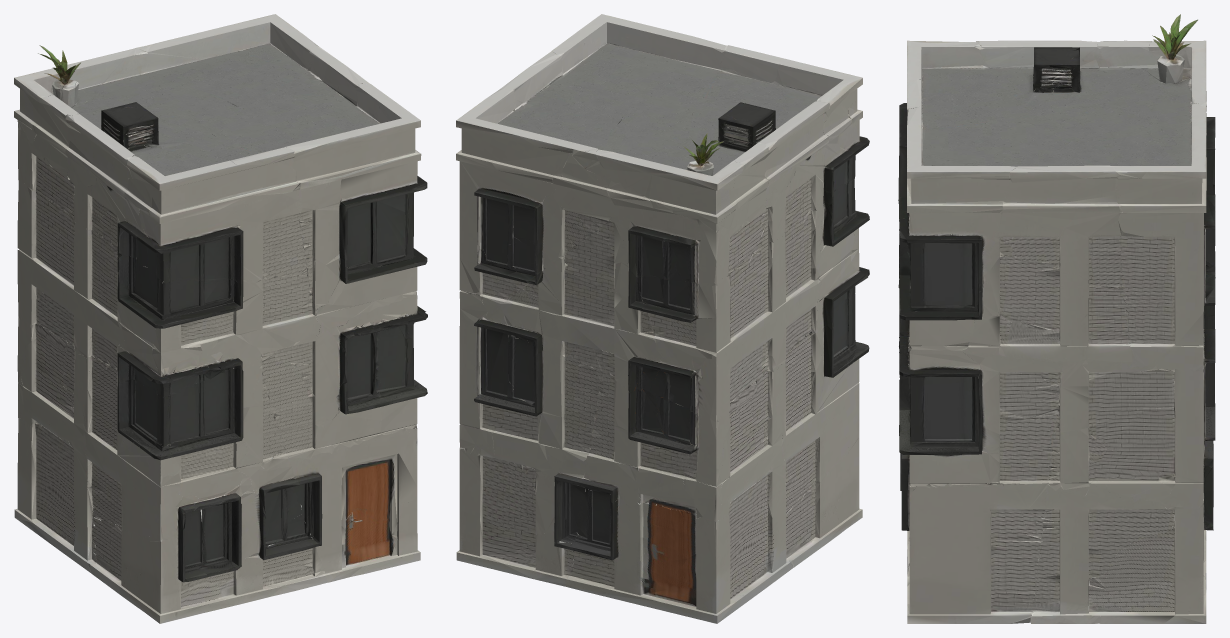
File: JHB_HeroBuilding03_LOD1.fbx
3 renders of one model, left to right at view 1: azimuth 30°, elevation 25°; view 2: azimuth 150°, elevation 25°; view 3: azimuth 270°, elevation 25°, orthographic. The views are drawn at different scales.
Parts seen in each view (by area): view 1: JHB_HeroBuilding03_LOD1; view 2: JHB_HeroBuilding03_LOD1; view 3: JHB_HeroBuilding03_LOD1.
Part boxes in pixels (x1,y1,x2,y2): JHB_HeroBuilding03_LOD1: (14,14,427,623); JHB_HeroBuilding03_LOD1: (456,14,869,623); JHB_HeroBuilding03_LOD1: (898,14,1215,623).
Bounding box in the file's own units: 10.98 × 18 × 10.68.
